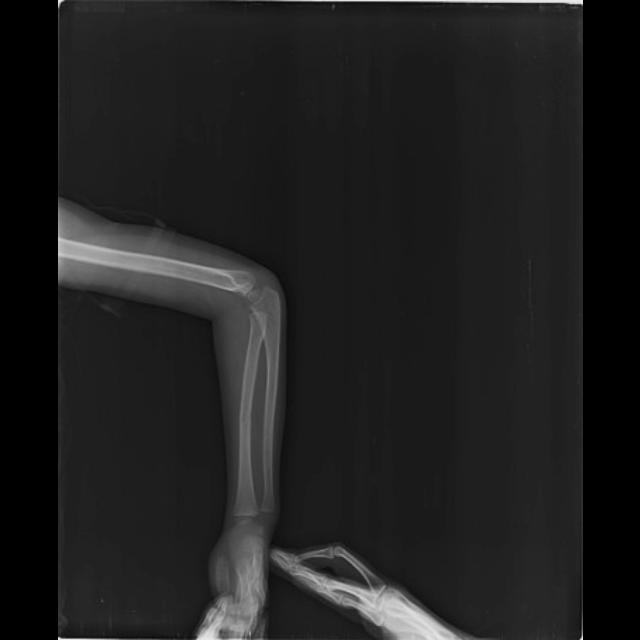Fracture: (237, 406, 252, 438)
